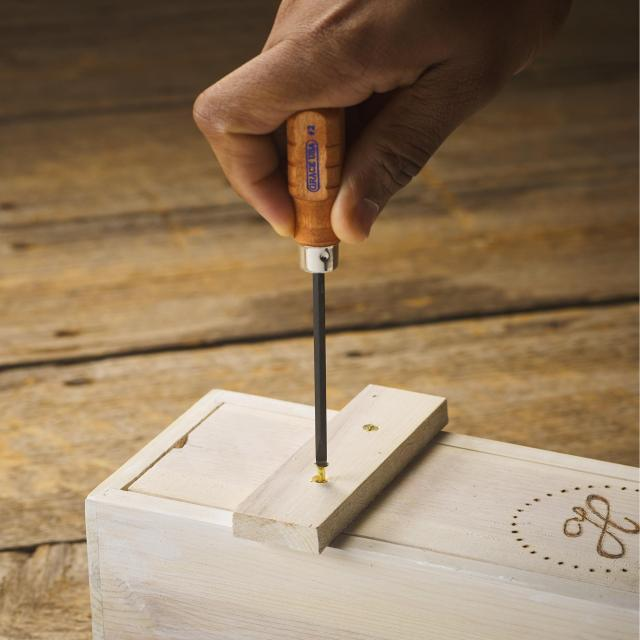screwdriver: (280, 95, 358, 479)
